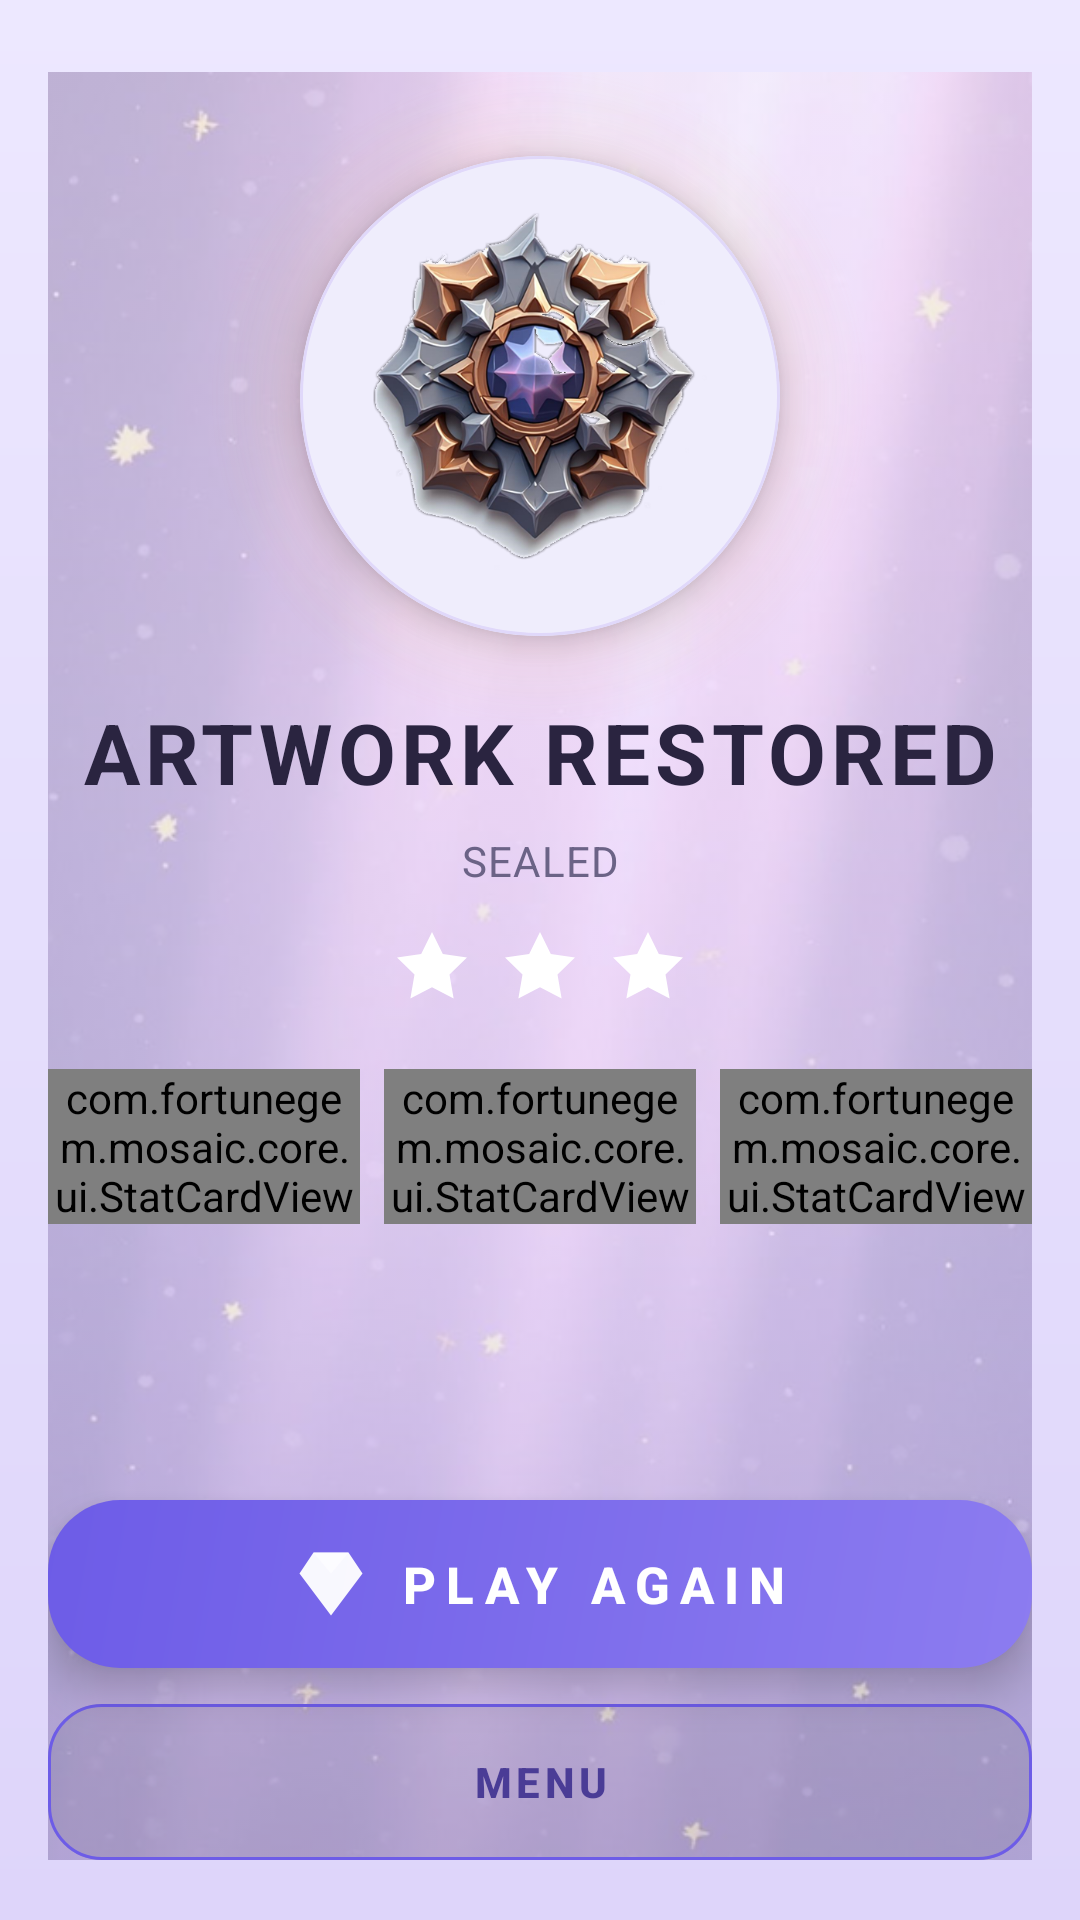

Where to tap for icons on this 1080w x 1920h app screen, as (x=x, y=y):
Crystal medal badge: (x=533, y=386)
Earned star: (x=432, y=965)
